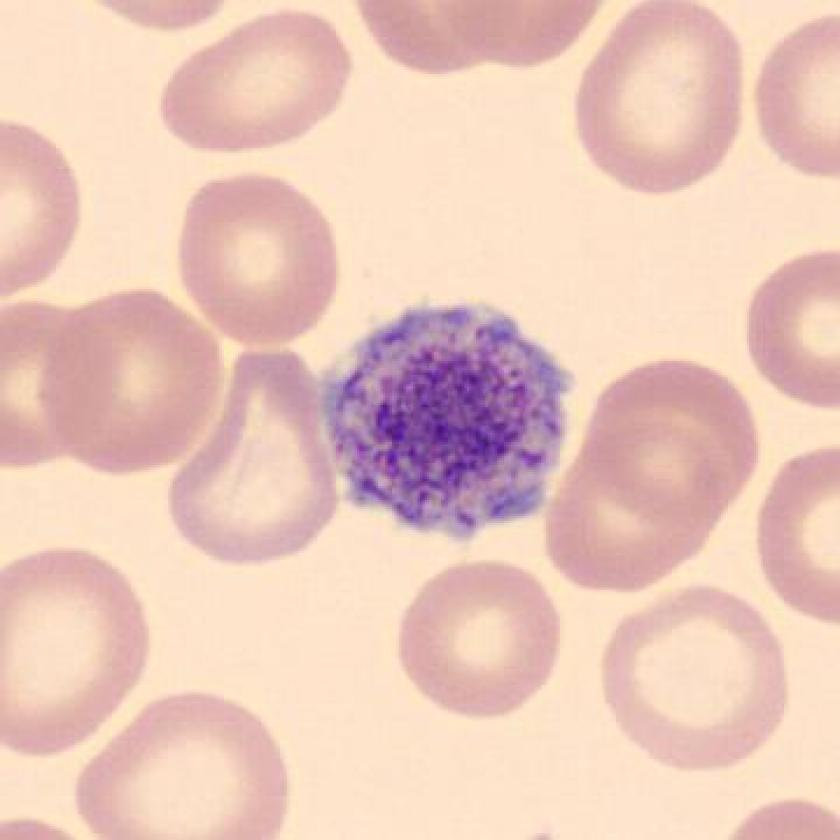platelets: (300, 288, 598, 549)
